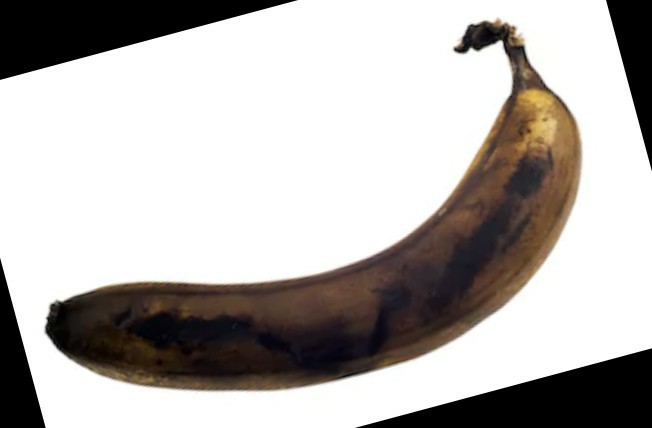rotten_banana: (48, 22, 582, 390)
